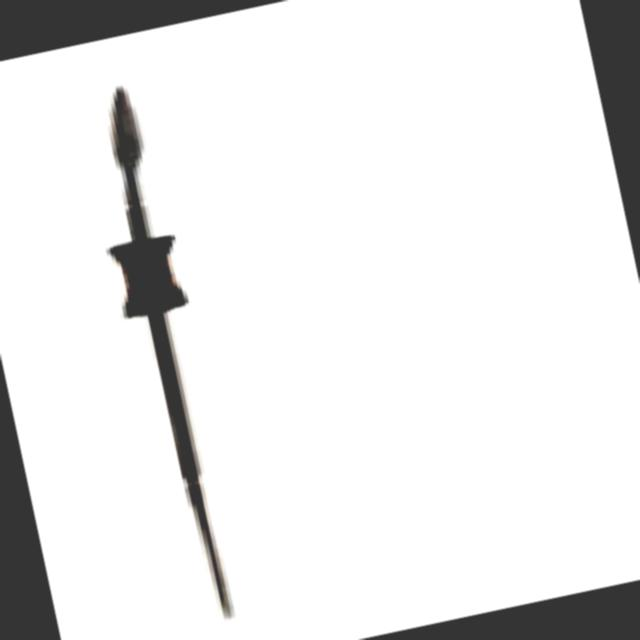spear: (35, 52, 300, 640)
